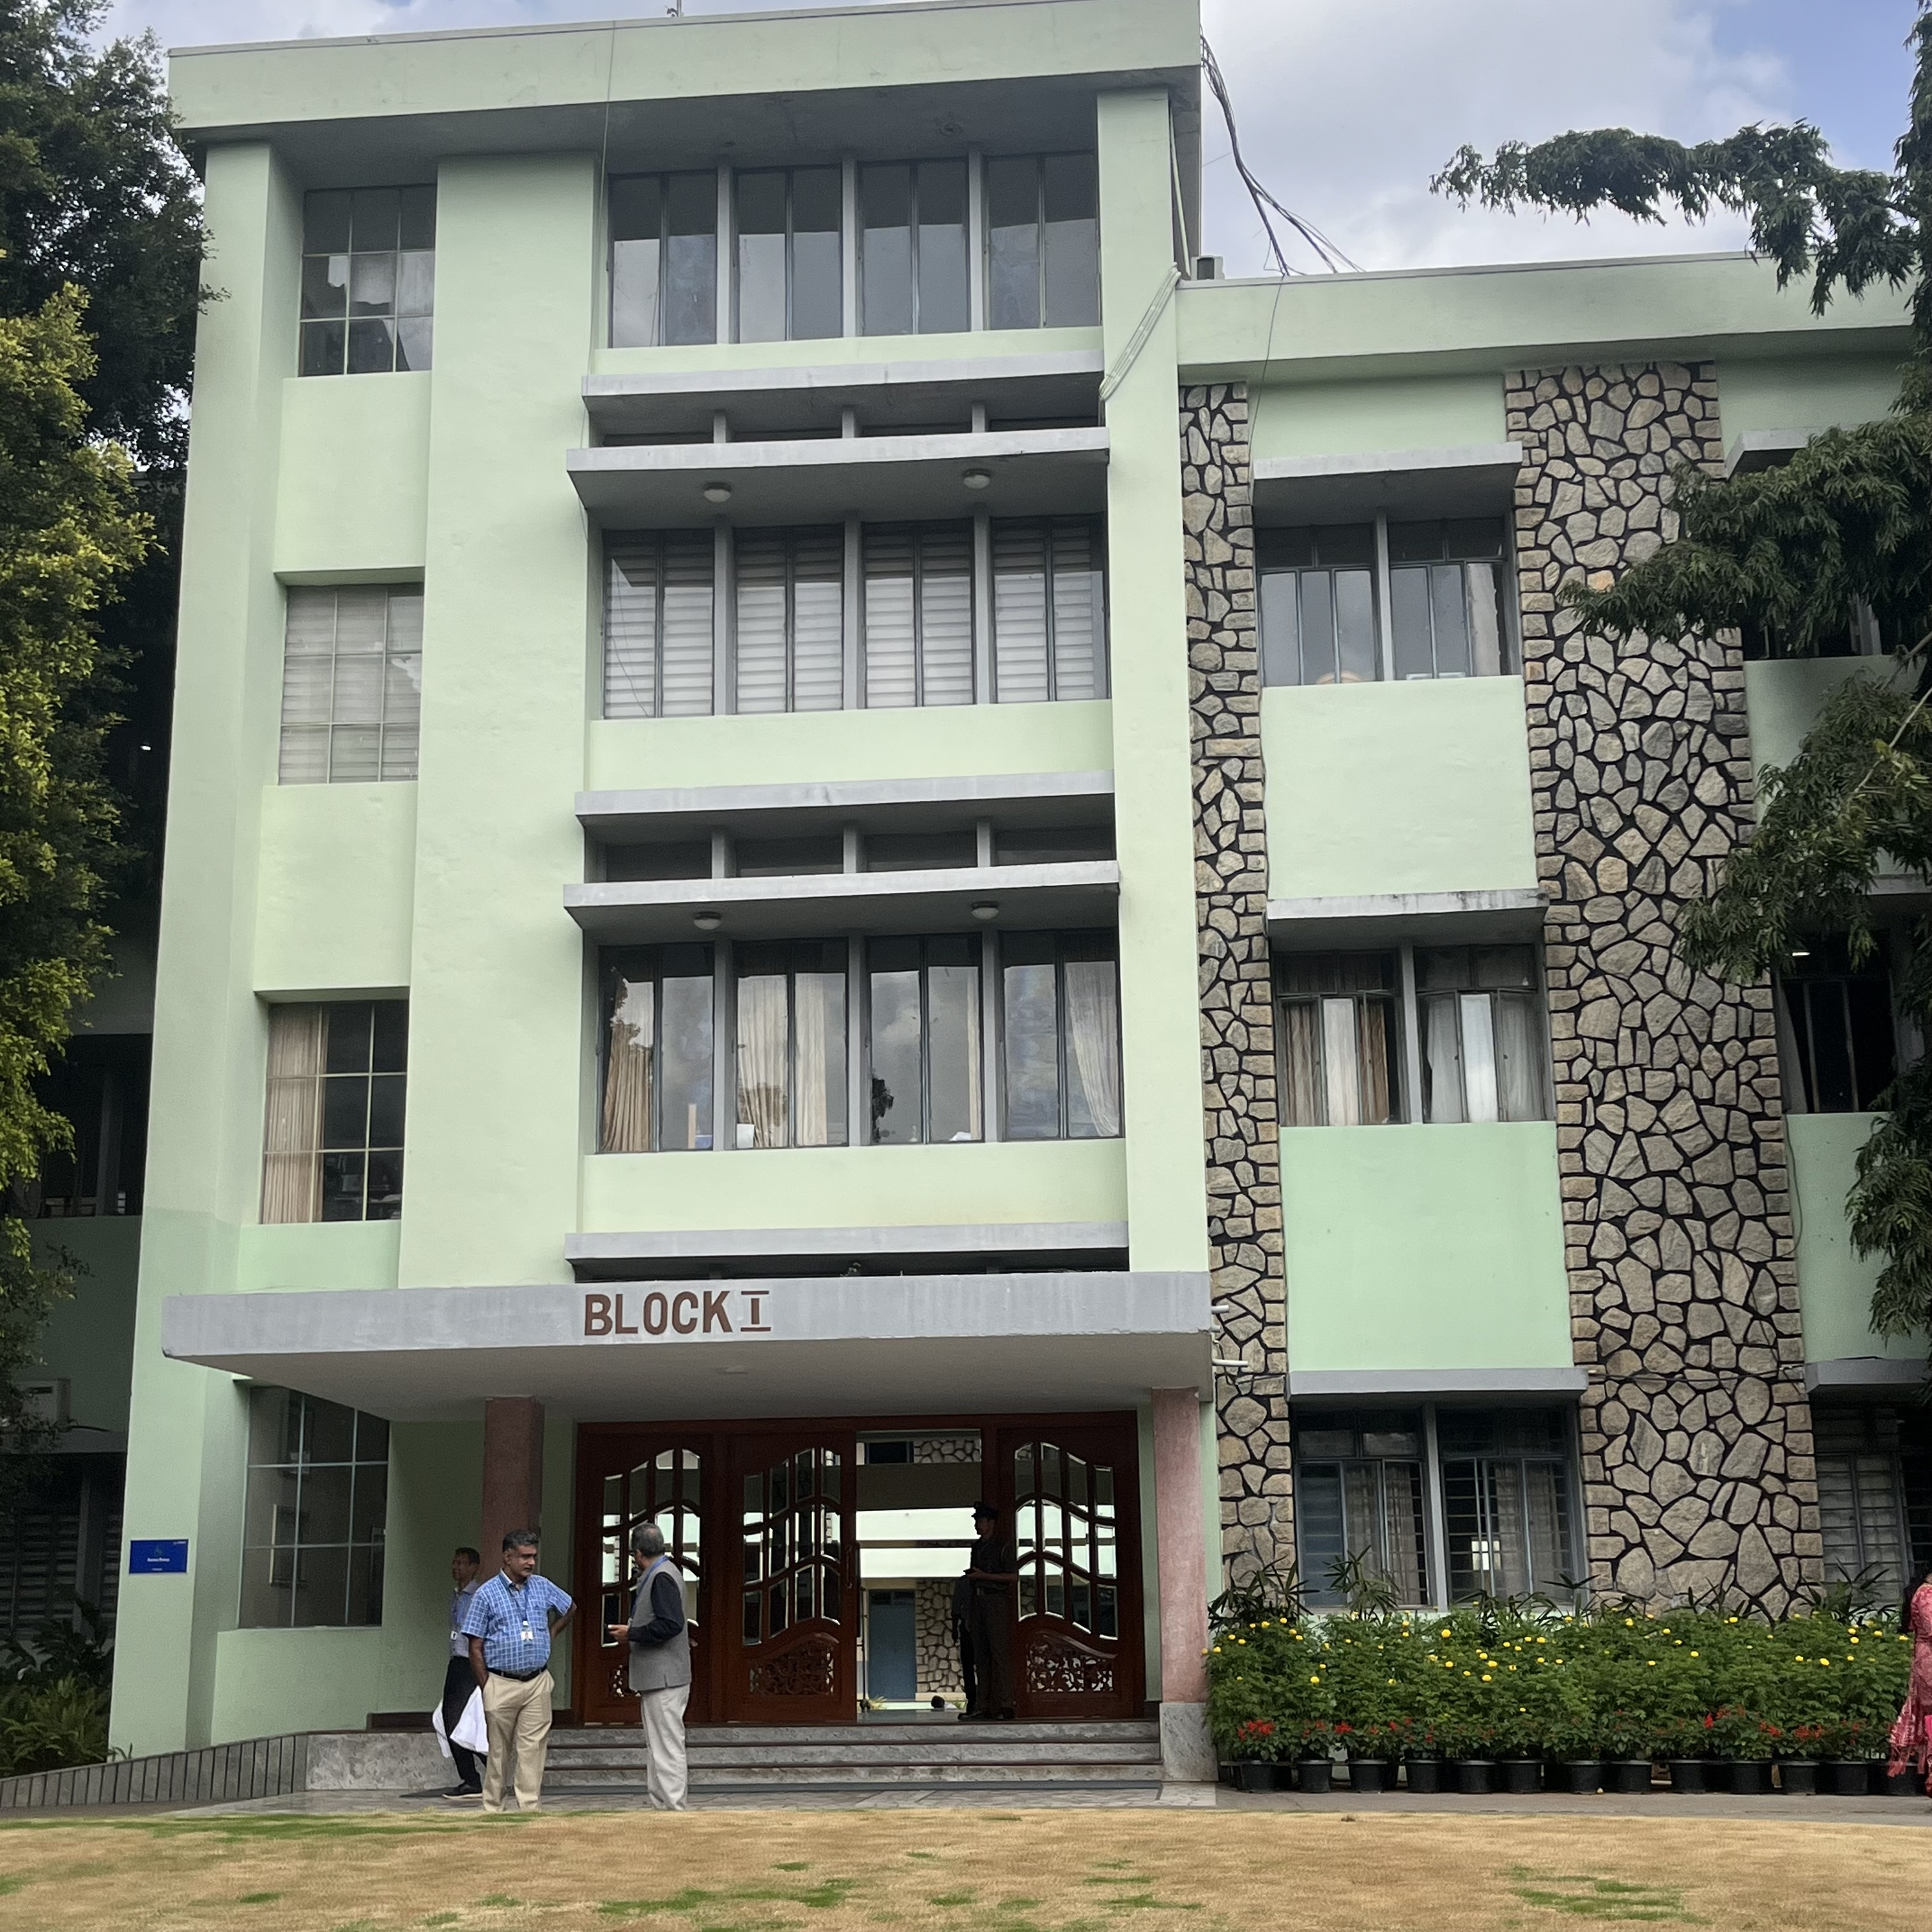Block 1: (179, 39, 1796, 1670)
